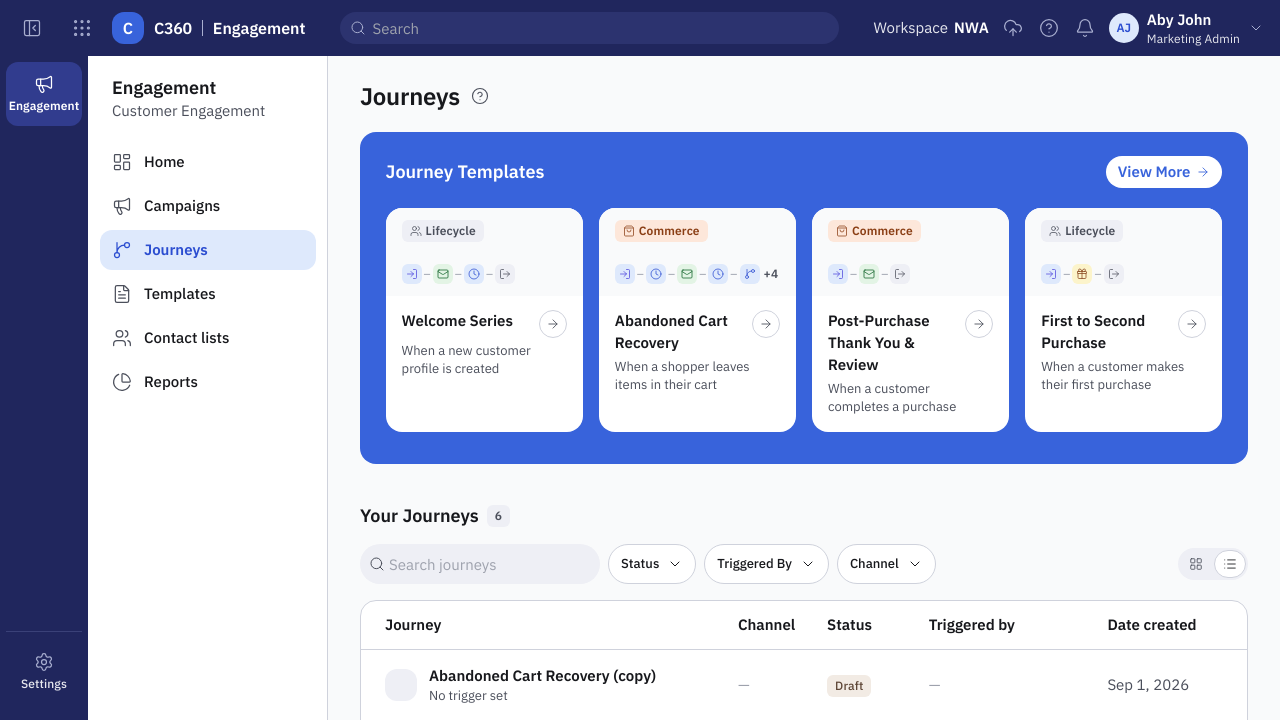
Test: without journey.edit the starters can be looked at but not used
This screenshot has width=1280, height=720.
Click the button with aria-label "Abandoned Cart Recovery, C360 Starter" at (697, 320), box [599, 208, 796, 432]
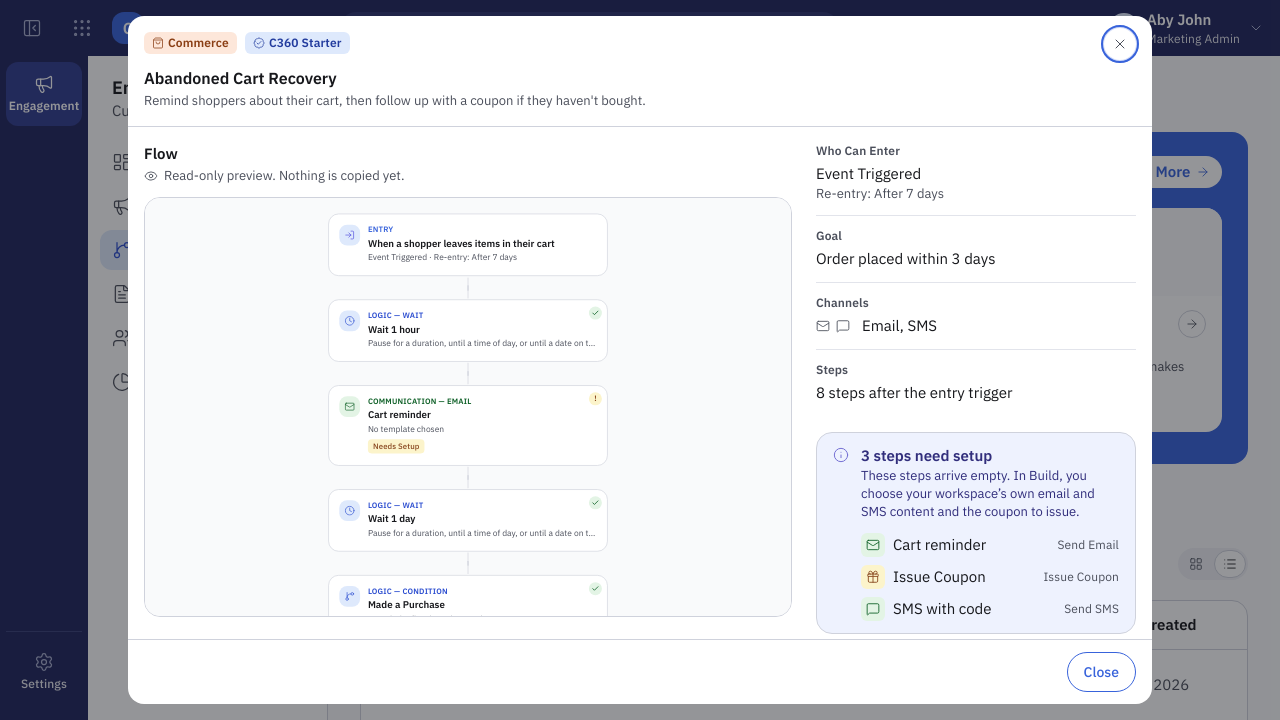
Now the number of buttons named "Close" is 2, box [1104, 28, 1136, 60]; [1067, 652, 1136, 692]
